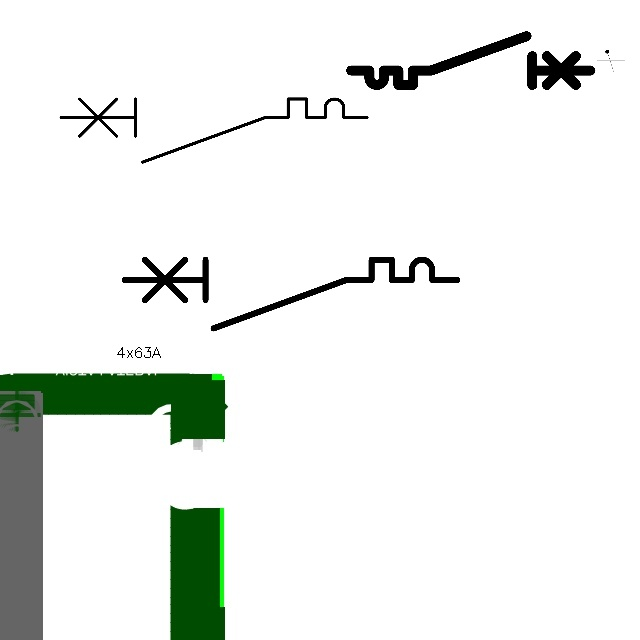interruptor_termomagnetico: (116, 251, 466, 336), (53, 91, 375, 170), (345, 30, 597, 91)
